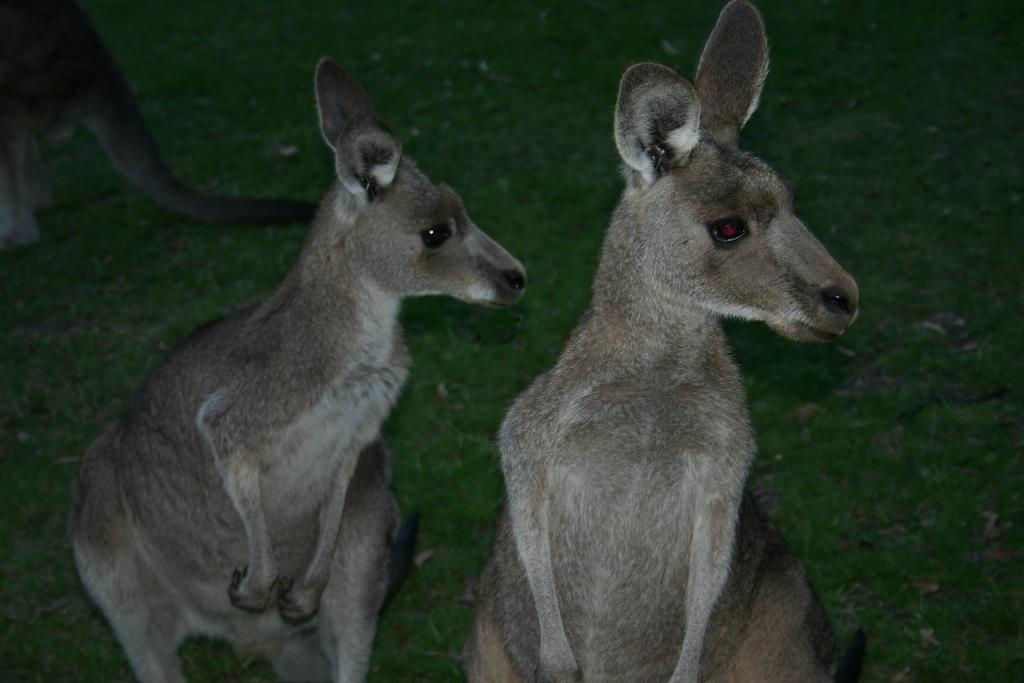kangaroo: (68, 61, 532, 682), (464, 0, 862, 682), (0, 0, 323, 270)
